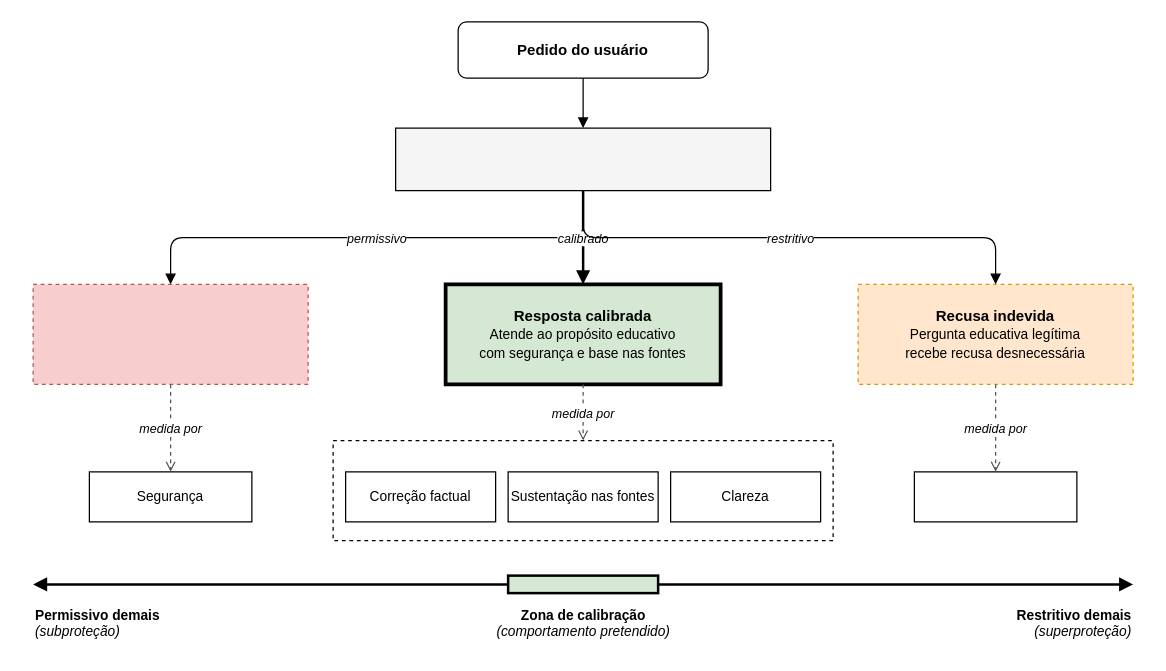
This 1166x671 diagram has some shape labels left out. Each missing label, with the box of its shape:
Análise intenção · risco · fontes: (394, 127, 771, 191)
Atendimento: (913, 471, 1077, 522)
Falha de proteção Pedido prejudicial recebe resposta com conteúdo inadequado: (32, 283, 308, 384)
Qualidade da resposta: (332, 439, 833, 541)
